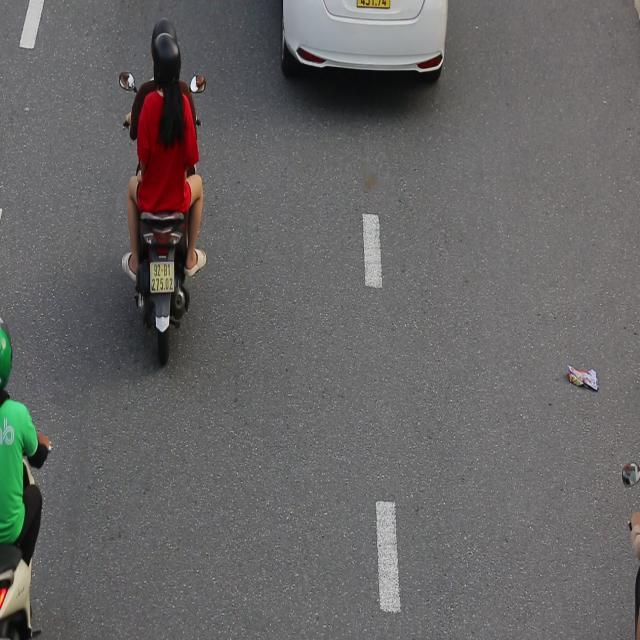motorbike: (110, 10, 216, 374)
